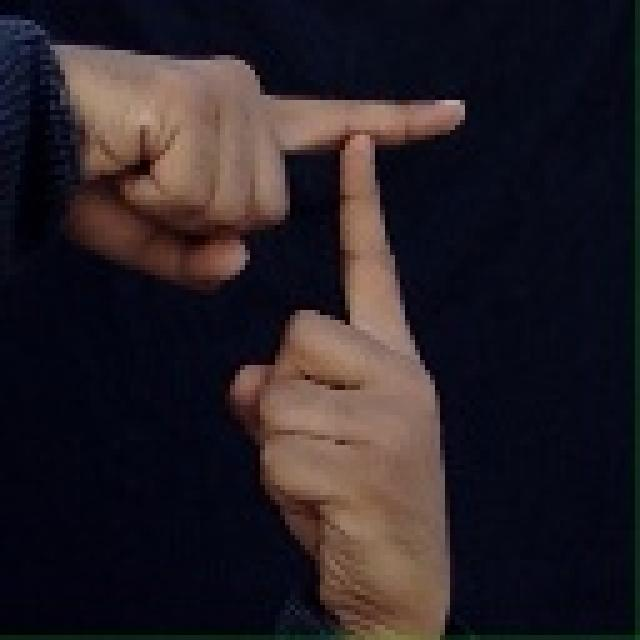Alphabet-T: (36, 30, 538, 612)
